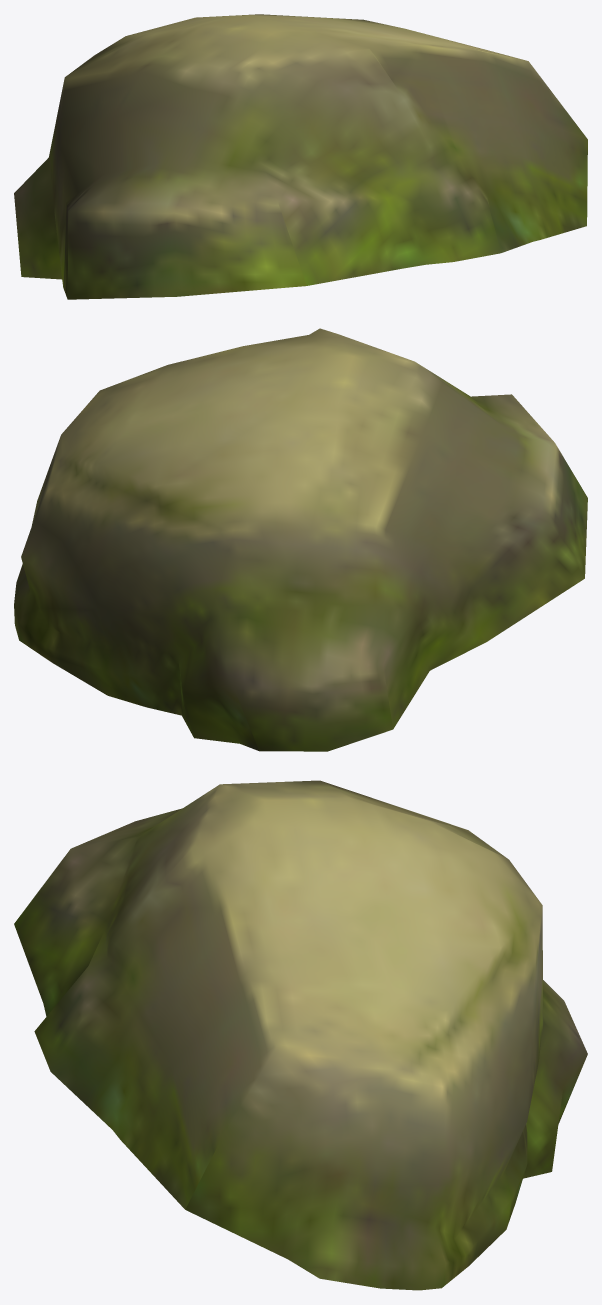
Rendered from liemo_shitou_01 (3).fbx.
3 renders of one model, top to bottom at view 1: azimuth 30°, elevation 25°; view 2: azimuth 150°, elevation 25°; view 3: azimuth 270°, elevation 25°, orthographic. The views are drawn at different scales.
Visible parts, largest first — view 1: liemo_shitou_01 (3); view 2: liemo_shitou_01 (3); view 3: liemo_shitou_01 (3).
Boxes of the visible parts, <box> form: liemo_shitou_01 (3): <box>14,14,587,299</box>; liemo_shitou_01 (3): <box>14,328,587,751</box>; liemo_shitou_01 (3): <box>14,780,587,1290</box>.
Bounding box in the file's own units: 0.1581 × 0.0885 × 0.1306.
